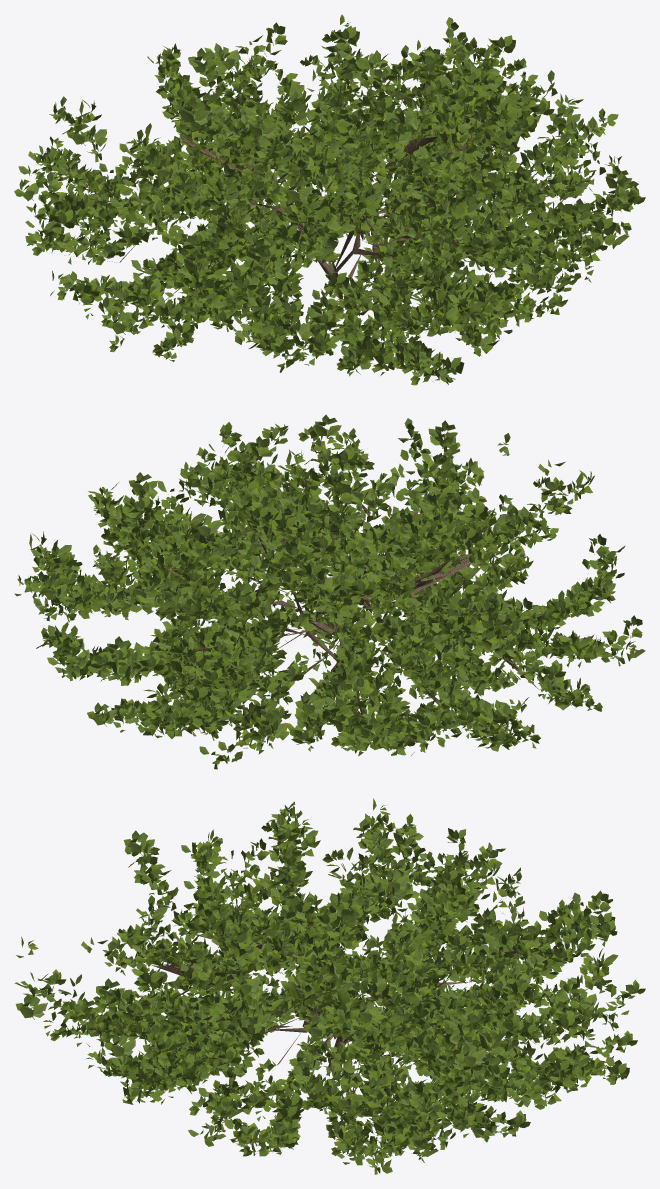
Rendered from arbusto.glb.
3 renders of one model, top to bottom at view 1: azimuth 30°, elevation 25°; view 2: azimuth 150°, elevation 25°; view 3: azimuth 270°, elevation 25°, orthographic. The views are drawn at different scales.
Parts seen in each view (by area): view 1: kizilnik_stelushiisya_mesh; view 2: kizilnik_stelushiisya_mesh; view 3: kizilnik_stelushiisya_mesh.
Boxes of the visible parts, <box> form: kizilnik_stelushiisya_mesh: <box>14,14,645,385</box>; kizilnik_stelushiisya_mesh: <box>14,414,645,769</box>; kizilnik_stelushiisya_mesh: <box>14,798,645,1174</box>.
Bounding box in the file's own units: 9.72 × 4.63 × 9.9.
2 materials, 2 textured.
